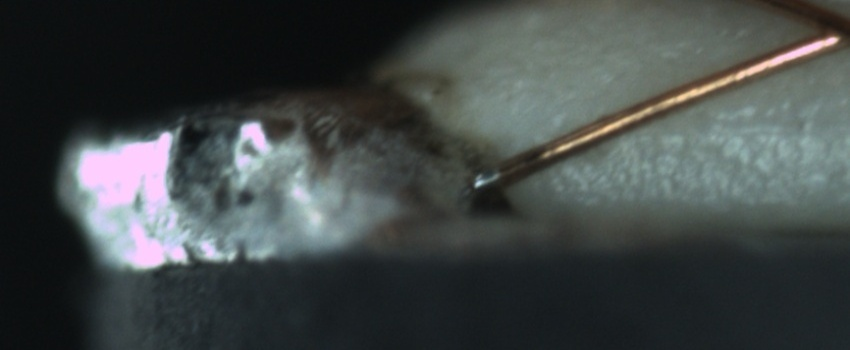CL: (791, 4, 850, 57)
DL: (633, 95, 850, 154)
TS: (468, 163, 500, 193)
